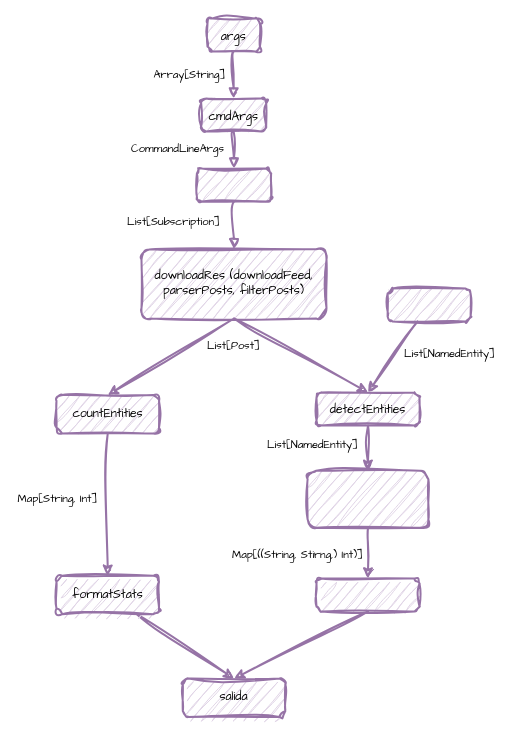
Some shapes in this 512 by 735 pixel diagram are drawn without their labels. The shapes that lost their labels are listed below. From the top down, each one's box as (x1, y1, x2, y2) in pixels, then its label:
(195, 167, 272, 202): readSubs
(386, 287, 471, 322): loadDict
(306, 469, 429, 528): groupEntities, reduceEntities, orderEntities
(315, 577, 420, 612): formatEntities
